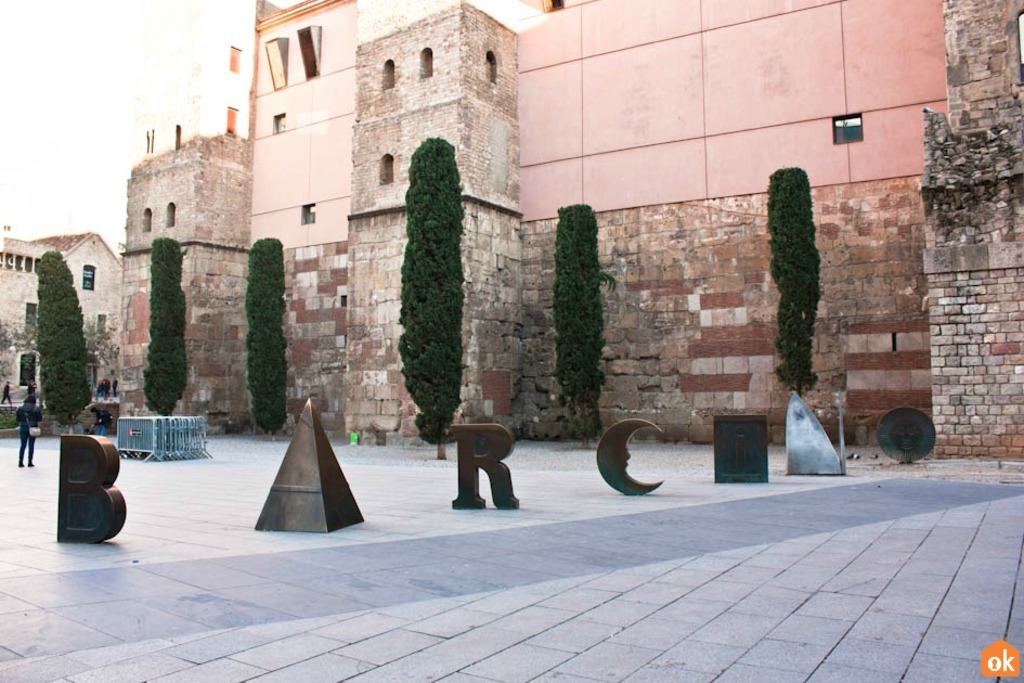Tree: (398, 133, 464, 462), (758, 162, 821, 404), (548, 203, 606, 448), (0, 305, 127, 413), (138, 233, 191, 422), (244, 230, 286, 440)
